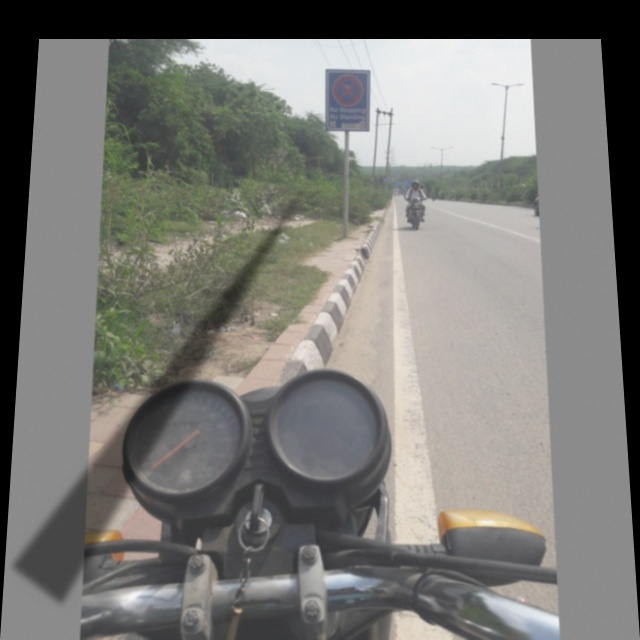No_Stopping_or_Standing: (327, 69, 372, 111)
